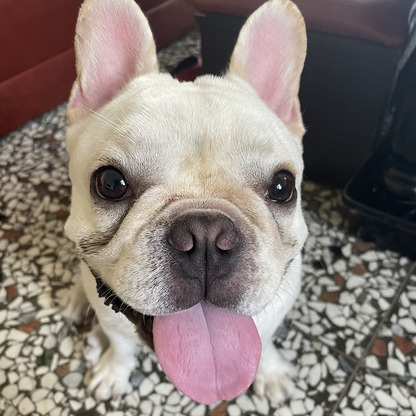bulldog: (58, 2, 311, 407)
